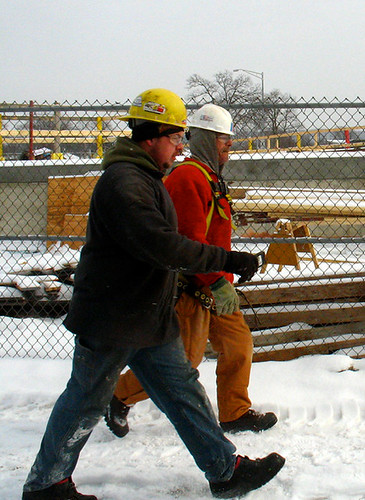person hardhat: (29, 91, 285, 491), (164, 101, 291, 436)
